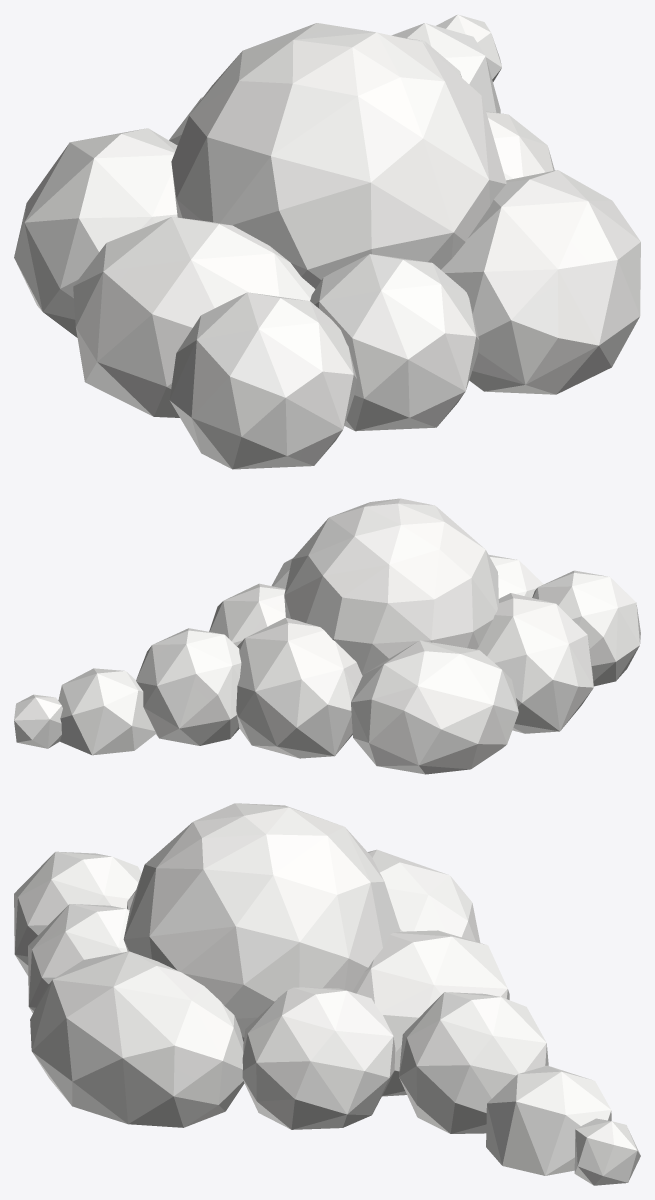
Rendered from cloud2.glb.
The picture shows the model from 3 angles, top to bottom: view 1: azimuth 30°, elevation 25°; view 2: azimuth 150°, elevation 25°; view 3: azimuth 270°, elevation 25°; orthographic projection. The views are drawn at different scales.
Parts seen in each view (by area): view 1: Sphere.038; view 2: Sphere.038; view 3: Sphere.038.
Boxes of the visible parts, x1,y1,x2,y2 form: Sphere.038: (14,14,640,469); Sphere.038: (14,498,640,774); Sphere.038: (14,803,640,1185).
Size of what is drawn, in the model's own units: 4.41 by 1.84 by 4.55.
Materials: 1 (1 with a texture image).
